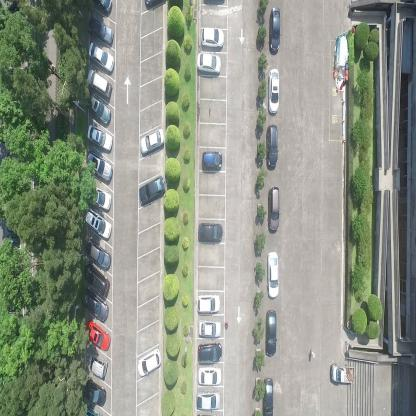car: (81, 286, 109, 322), (138, 173, 166, 207), (84, 318, 111, 352), (85, 234, 111, 269), (84, 208, 112, 240), (87, 40, 115, 72), (83, 263, 110, 296), (86, 121, 114, 152), (80, 376, 107, 408), (85, 151, 112, 182), (139, 125, 165, 157), (86, 66, 112, 98), (86, 91, 110, 125), (86, 16, 114, 45), (137, 347, 162, 378), (267, 67, 281, 116), (266, 186, 280, 234), (89, 183, 112, 212), (268, 5, 281, 55), (266, 250, 279, 300), (197, 221, 223, 246), (265, 124, 278, 171), (331, 360, 355, 385), (200, 25, 224, 50), (88, 350, 108, 380), (264, 308, 276, 356), (196, 52, 221, 75), (196, 294, 222, 316), (197, 341, 223, 363), (196, 388, 221, 410), (197, 366, 222, 386), (262, 376, 274, 416), (198, 319, 222, 339), (201, 150, 222, 170), (90, 0, 112, 15)
